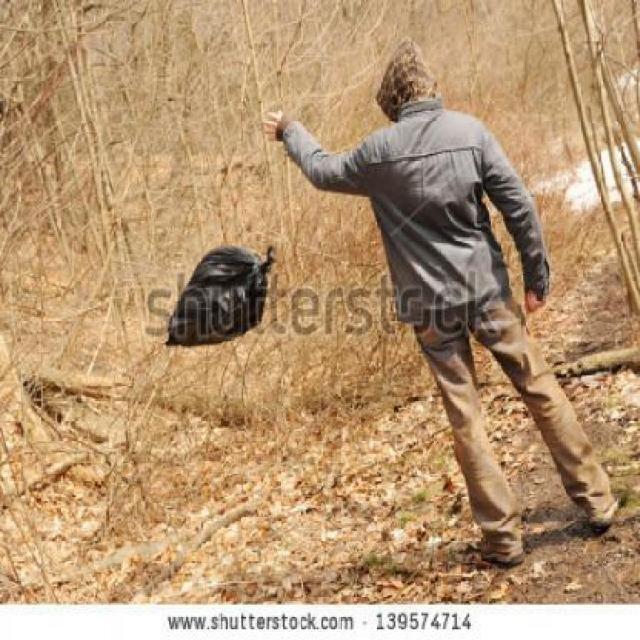garbage: (159, 239, 276, 350)
